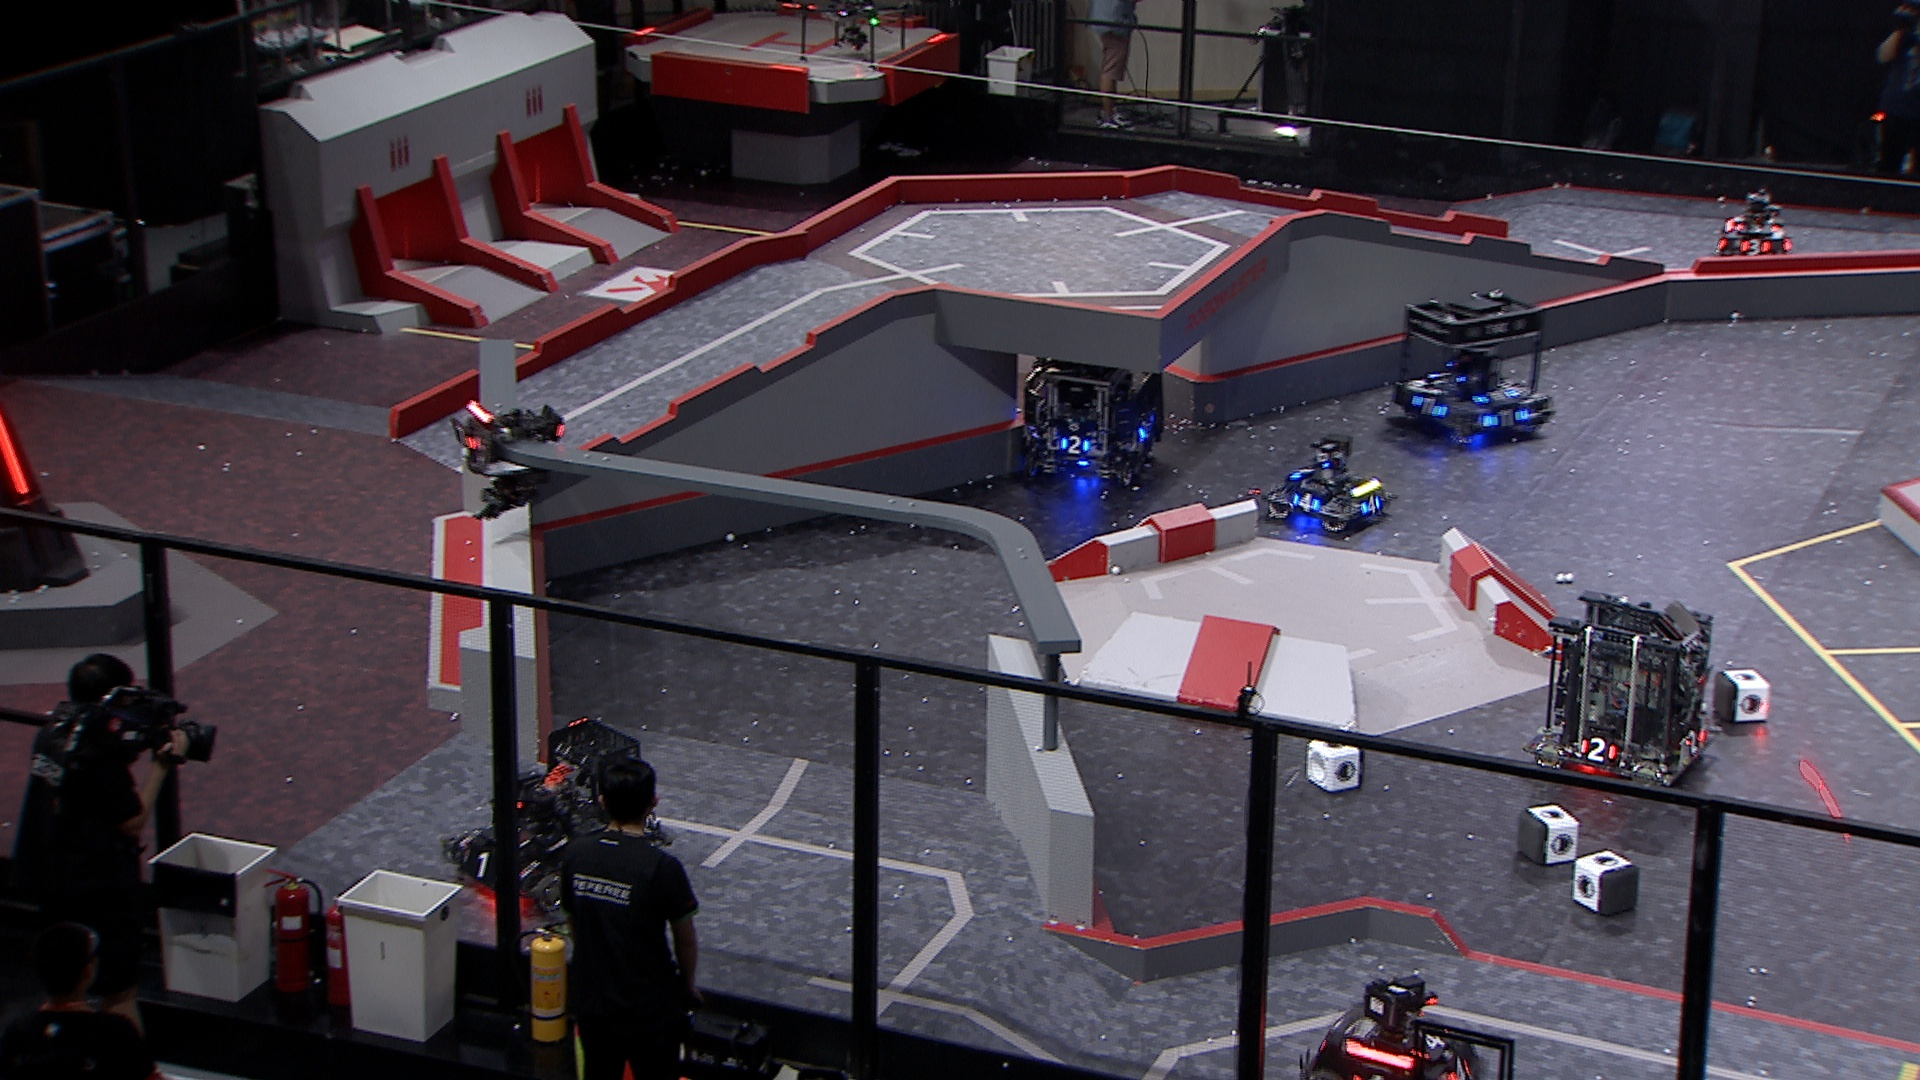armor: (0, 418, 32, 498), (462, 843, 498, 880), (1481, 407, 1531, 433), (1408, 394, 1449, 425), (1578, 736, 1618, 766), (1408, 1033, 1447, 1062), (1474, 386, 1523, 406), (451, 419, 477, 451), (1058, 434, 1092, 456), (1447, 1054, 1474, 1080), (1290, 491, 1320, 514), (1735, 220, 1782, 235), (1358, 495, 1382, 520), (1741, 237, 1771, 256), (1683, 731, 1702, 756), (1135, 419, 1155, 444), (1291, 465, 1316, 481)
car: (440, 713, 673, 913), (1524, 593, 1724, 793), (1387, 287, 1557, 452), (1019, 348, 1168, 489), (1299, 972, 1490, 1080), (1259, 436, 1399, 535), (1714, 194, 1793, 264)
watcher: (451, 400, 567, 524)
